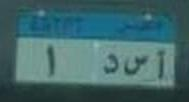1: (46, 45, 58, 75)
alif: (153, 48, 167, 80)
daal: (103, 53, 119, 74)
seen: (122, 54, 148, 76)
